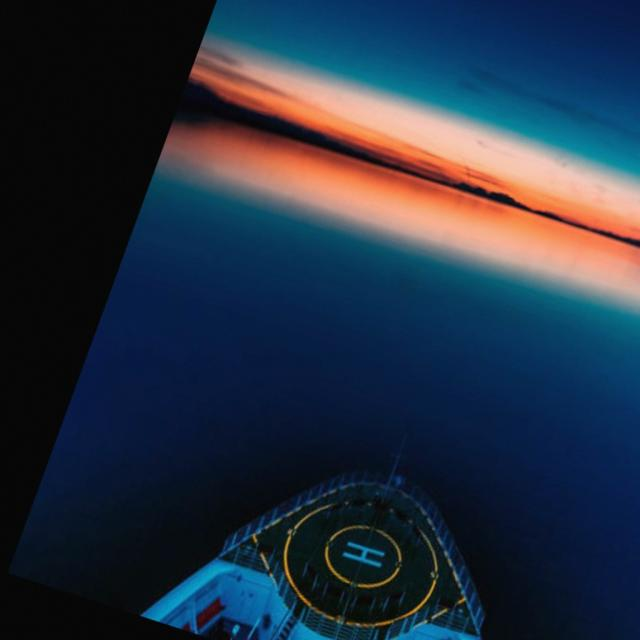helipad: (320, 521, 404, 590)
